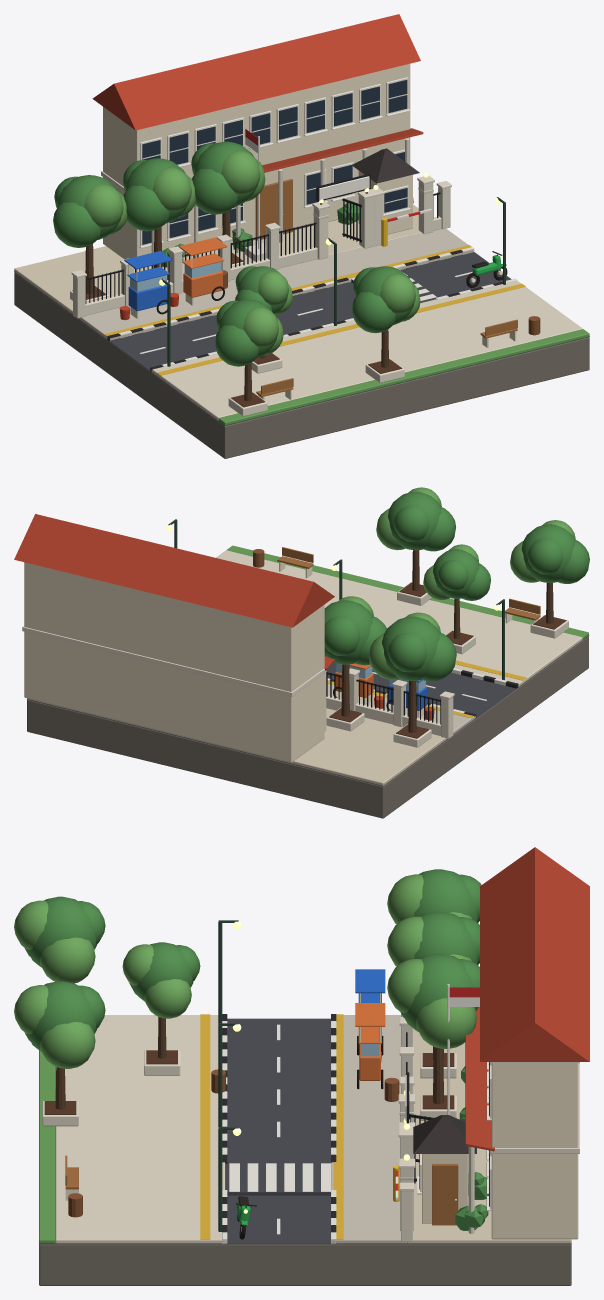
Rendered from lokasi3.glb.
3 renders of one model, top to bottom at view 1: azimuth 30°, elevation 25°; view 2: azimuth 150°, elevation 25°; view 3: azimuth 270°, elevation 25°, orthographic. The views are drawn at different scales.
Visible parts, largest first — view 1: Lokasi3; view 2: Lokasi3; view 3: Lokasi3.
Boxes of the visible parts, x1,y1,x2,y2 form: Lokasi3: [14, 14, 589, 458]; Lokasi3: [14, 487, 589, 818]; Lokasi3: [14, 847, 589, 1285].
Size of the model in its own units: 16.88 by 8.85 by 17.3.
